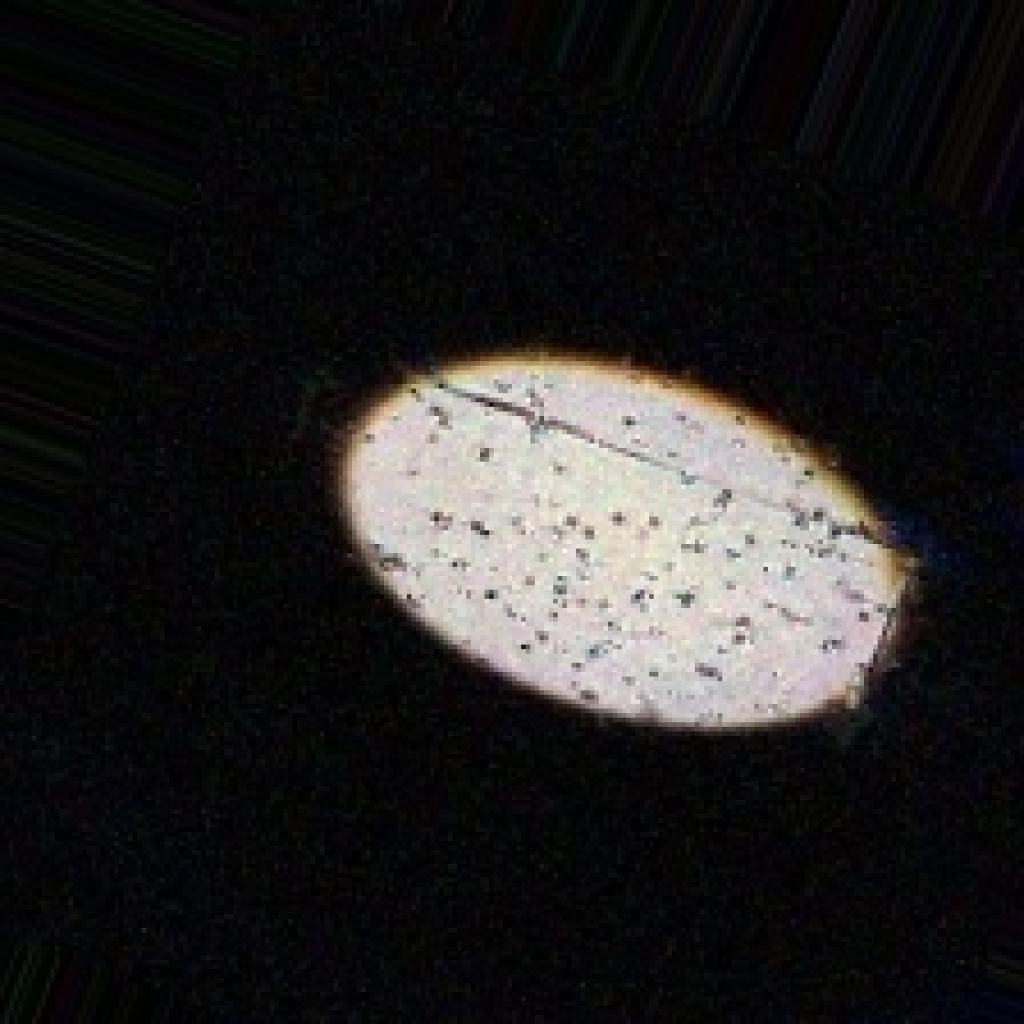Yeast: (329, 343, 924, 740)
